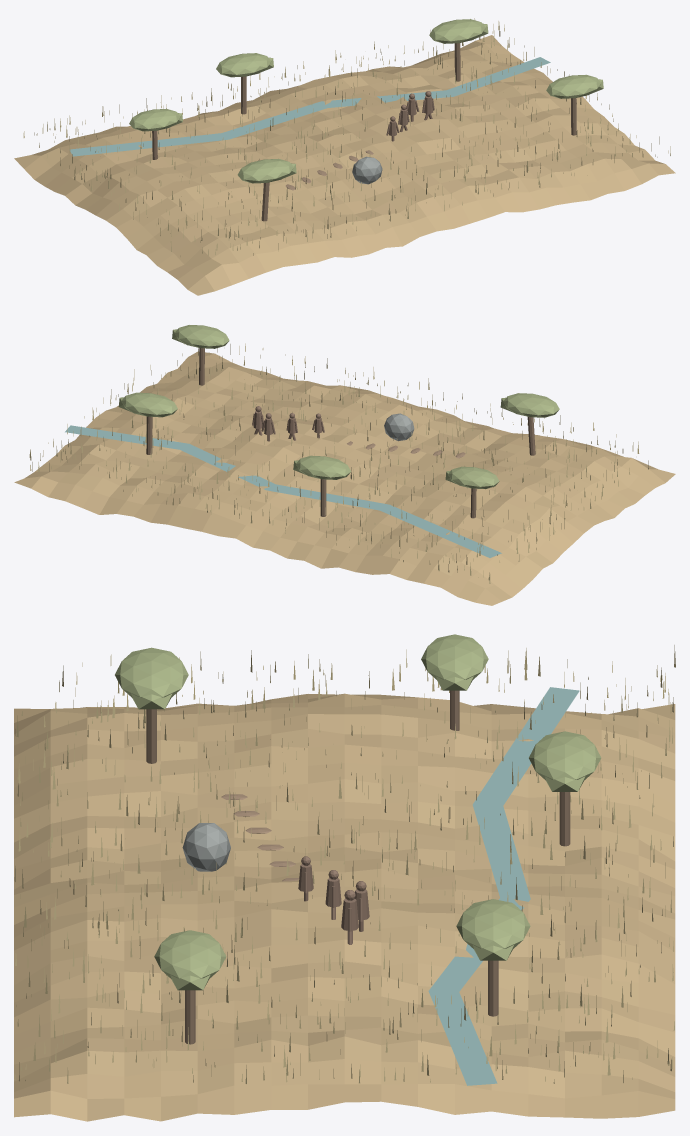
Rendered from world-02-ground.glb.
3 renders of one model, top to bottom at view 1: azimuth 30°, elevation 25°; view 2: azimuth 150°, elevation 25°; view 3: azimuth 270°, elevation 25°, orthographic. The views are drawn at different scales.
Visible parts, largest first — view 1: BH_WORLD_02_Terrain.006, Savanna_Grass.006, BH_WORLD_02_Batch_04, BH_WORLD_02_Water.006, BH_WORLD_02_Batch_03, BH_WORLD_02_Batch_06, Stone_Core.007; view 2: BH_WORLD_02_Terrain.006, Savanna_Grass.006, BH_WORLD_02_Batch_04, BH_WORLD_02_Water.006, BH_WORLD_02_Batch_03, BH_WORLD_02_Batch_06, Stone_Core.007; view 3: BH_WORLD_02_Terrain.006, Savanna_Grass.006, BH_WORLD_02_Batch_04, BH_WORLD_02_Water.006, BH_WORLD_02_Batch_03, BH_WORLD_02_Batch_06, Stone_Core.007, BH_WORLD_02_Batch_05.
Part boxes in pixels (x1=…): BH_WORLD_02_Terrain.006: x1=14, y1=35, x2=675, y2=295; Savanna_Grass.006: x1=23, y1=18, x2=670, y2=256; BH_WORLD_02_Batch_04: x1=129, y1=19, x2=603, y2=183; BH_WORLD_02_Water.006: x1=70, y1=57, x2=550, y2=156; BH_WORLD_02_Batch_03: x1=152, y1=43, x2=576, y2=221; BH_WORLD_02_Batch_06: x1=386, y1=91, x2=434, y2=141; Stone_Core.007: x1=352, y1=156, x2=382, y2=184; BH_WORLD_02_Terrain.006: x1=14, y1=351, x2=675, y2=605; Savanna_Grass.006: x1=29, y1=343, x2=648, y2=583; BH_WORLD_02_Batch_04: x1=118, y1=325, x2=559, y2=489; BH_WORLD_02_Water.006: x1=65, y1=425, x2=501, y2=557; BH_WORLD_02_Batch_03: x1=146, y1=348, x2=535, y2=518; BH_WORLD_02_Batch_06: x1=252, y1=406, x2=324, y2=441; Stone_Core.007: x1=384, y1=413, x2=414, y2=441; BH_WORLD_02_Terrain.006: x1=14, y1=693, x2=675, y2=1121; Savanna_Grass.006: x1=14, y1=645, x2=675, y2=1083; BH_WORLD_02_Batch_04: x1=115, y1=634, x2=601, y2=990; BH_WORLD_02_Water.006: x1=428, y1=687, x2=579, y2=1085; BH_WORLD_02_Batch_03: x1=146, y1=690, x2=570, y2=1044; BH_WORLD_02_Batch_06: x1=298, y1=856, x2=369, y2=944; Stone_Core.007: x1=182, y1=823, x2=230, y2=871; BH_WORLD_02_Batch_05: x1=221, y1=794, x2=299, y2=881.
Bounding box in the file's own units: 18.05 × 2.97 × 12.01.
